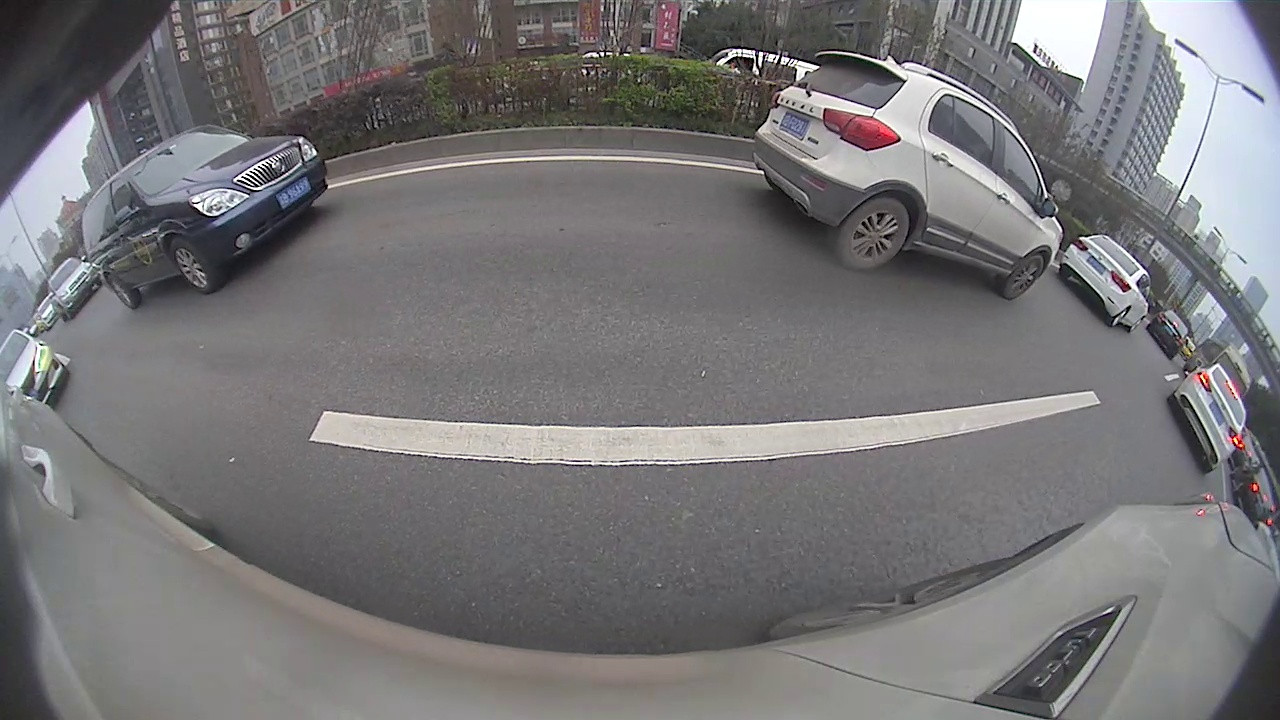car: (252, 173, 450, 286), (712, 143, 845, 219), (876, 176, 988, 239), (988, 205, 1069, 260)
front: (327, 231, 357, 253), (711, 178, 722, 200), (877, 198, 889, 213)
rear: (740, 183, 758, 212), (924, 210, 939, 231), (423, 204, 442, 220), (1021, 234, 1034, 251)
